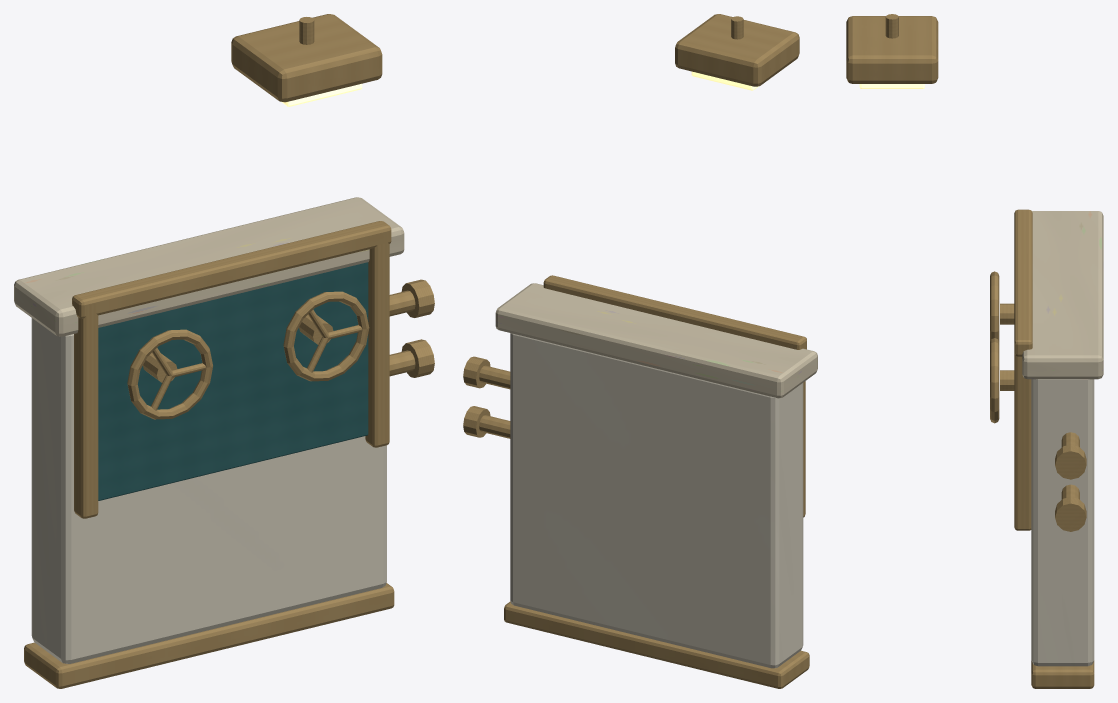
The model's file is Group6CascadeInterfaceProposal_r001.glb.
The picture shows the model from 3 angles, left to right: view 1: azimuth 30°, elevation 25°; view 2: azimuth 150°, elevation 25°; view 3: azimuth 270°, elevation 25°; orthographic projection. The views are drawn at different scales.
Parts seen in each view (by area): view 1: G6_CASCADE__cabinet_body, G6_CASCADE__cabinet_recess, G6_CASCADE__counter_cap, G6_CASCADE__task_hood, G6_CASCADE__cabinet_foot, G6_CASCADE__panel_crown, G6_CASCADE__panel_side_21.34, G6_CASCADE__panel_side_22.46, G6_CASCADE__isolator_0_handwheel_source, G6_CASCADE__isolator_1_handwheel_source, G6_CASCADE__supply_internal_terminal, G6_CASCADE__return_internal_terminal; view 2: G6_CASCADE__cabinet_body, G6_CASCADE__counter_cap, G6_CASCADE__task_hood, G6_CASCADE__cabinet_foot, G6_CASCADE__panel_crown, G6_CASCADE__return_internal_terminal, G6_CASCADE__supply_internal_terminal, G6_CASCADE__supply_local_header, G6_CASCADE__return_local_header; view 3: G6_CASCADE__cabinet_body, G6_CASCADE__counter_cap, G6_CASCADE__task_hood, G6_CASCADE__panel_side_22.46, G6_CASCADE__panel_crown, G6_CASCADE__cabinet_foot, G6_CASCADE__return_internal_terminal, G6_CASCADE__supply_internal_terminal, G6_CASCADE__isolator_1_handwheel_source, G6_CASCADE__isolator_0_handwheel_source.
Part boxes in pixels (x1=…): G6_CASCADE__cabinet_body: x1=31, y1=318, x2=386, y2=663; G6_CASCADE__cabinet_recess: x1=98, y1=262, x2=368, y2=500; G6_CASCADE__counter_cap: x1=14, y1=197, x2=404, y2=336; G6_CASCADE__task_hood: x1=231, y1=14, x2=382, y2=102; G6_CASCADE__cabinet_foot: x1=24, y1=583, x2=394, y2=688; G6_CASCADE__panel_crown: x1=72, y1=221, x2=391, y2=318; G6_CASCADE__panel_side_21.34: x1=74, y1=303, x2=98, y2=518; G6_CASCADE__panel_side_22.46: x1=365, y1=232, x2=389, y2=447; G6_CASCADE__isolator_0_handwheel_source: x1=127, y1=329, x2=212, y2=419; G6_CASCADE__isolator_1_handwheel_source: x1=283, y1=291, x2=369, y2=381; G6_CASCADE__supply_internal_terminal: x1=401, y1=339, x2=434, y2=377; G6_CASCADE__return_internal_terminal: x1=401, y1=279, x2=434, y2=317; G6_CASCADE__cabinet_body: x1=510, y1=333, x2=803, y2=668; G6_CASCADE__counter_cap: x1=495, y1=283, x2=817, y2=398; G6_CASCADE__task_hood: x1=675, y1=14, x2=799, y2=86; G6_CASCADE__cabinet_foot: x1=504, y1=601, x2=809, y2=688; G6_CASCADE__panel_crown: x1=543, y1=275, x2=806, y2=349; G6_CASCADE__return_internal_terminal: x1=463, y1=356, x2=490, y2=388; G6_CASCADE__supply_internal_terminal: x1=463, y1=406, x2=490, y2=437; G6_CASCADE__supply_local_header: x1=479, y1=415, x2=510, y2=438; G6_CASCADE__return_local_header: x1=479, y1=365, x2=510, y2=389; G6_CASCADE__cabinet_body: x1=1031, y1=379, x2=1094, y2=666; G6_CASCADE__counter_cap: x1=1022, y1=211, x2=1103, y2=379; G6_CASCADE__task_hood: x1=846, y1=16, x2=938, y2=83; G6_CASCADE__panel_side_22.46: x1=1014, y1=353, x2=1031, y2=530; G6_CASCADE__panel_crown: x1=1014, y1=209, x2=1032, y2=356; G6_CASCADE__cabinet_foot: x1=1031, y1=660, x2=1094, y2=688; G6_CASCADE__return_internal_terminal: x1=1055, y1=444, x2=1086, y2=479; G6_CASCADE__supply_internal_terminal: x1=1055, y1=497, x2=1086, y2=531; G6_CASCADE__isolator_1_handwheel_source: x1=990, y1=338, x2=999, y2=423; G6_CASCADE__isolator_0_handwheel_source: x1=990, y1=271, x2=999, y2=341.
Bounding box in the file's own units: 1.52 × 2.53 × 0.98.
5 materials, 4 textured.
